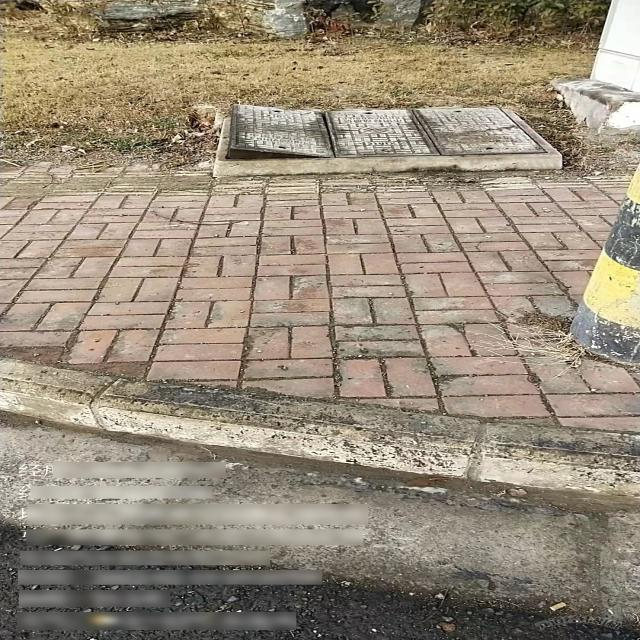Lose: (214, 100, 566, 165)
